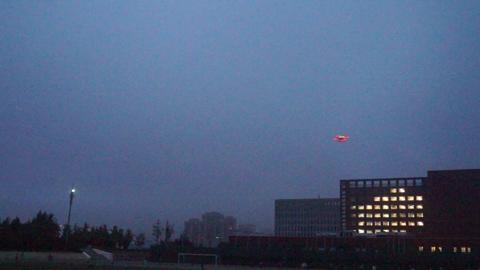UAV: (333, 135, 350, 142)
